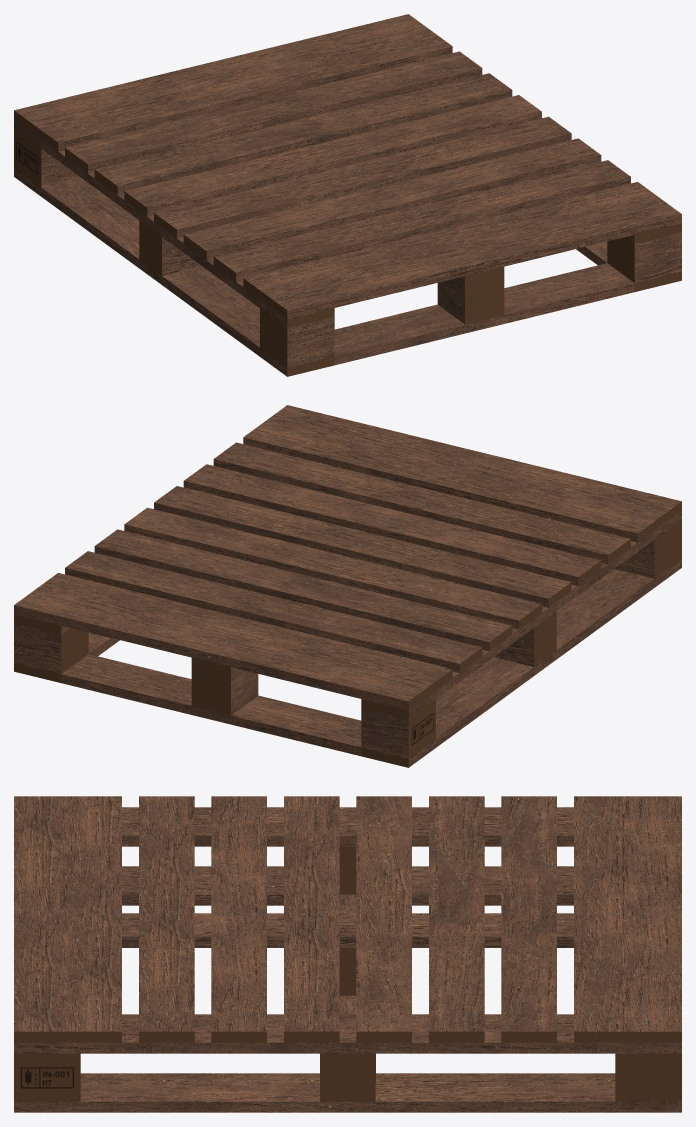
The model's file is hw01-hardwood-pallet-1000x1200.glb.
3 renders of one model, top to bottom at view 1: azimuth 30°, elevation 25°; view 2: azimuth 150°, elevation 25°; view 3: azimuth 270°, elevation 25°, orthographic. The views are drawn at different scales.
Visible parts, largest first — view 1: hw01-hardwood-pallet-1000x1200; view 2: hw01-hardwood-pallet-1000x1200; view 3: hw01-hardwood-pallet-1000x1200.
Boxes of the visible parts, bbox=[...] form: hw01-hardwood-pallet-1000x1200: bbox=[14, 14, 681, 376]; hw01-hardwood-pallet-1000x1200: bbox=[14, 405, 681, 767]; hw01-hardwood-pallet-1000x1200: bbox=[14, 796, 681, 1112].
Bounding box in the file's own units: 1 × 0.162 × 1.2.
Materials: 4 (3 with a texture image).
